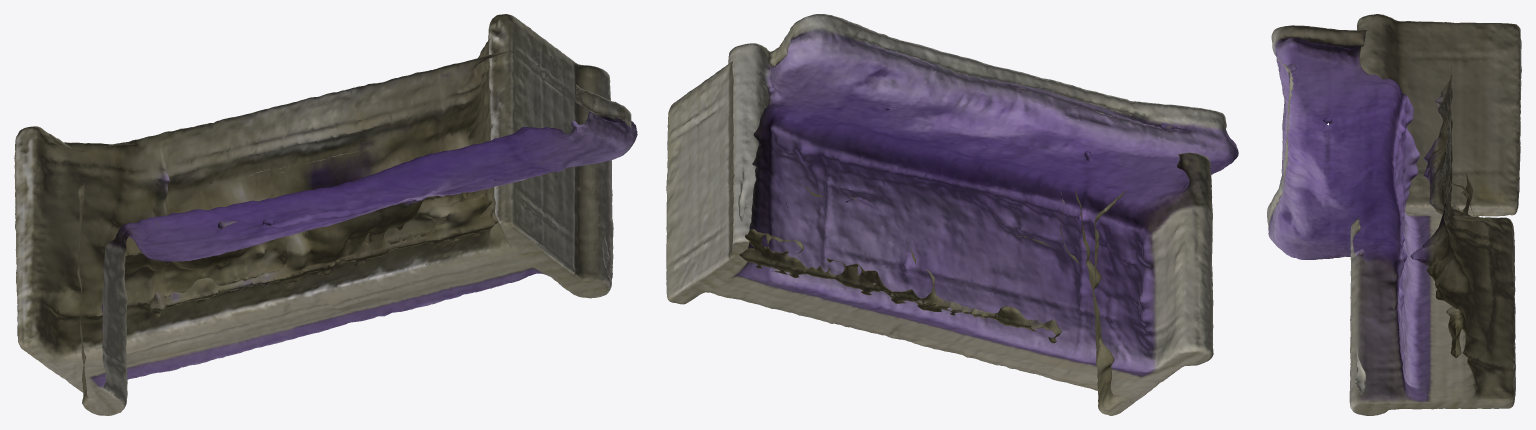
File: sofa.glb
3 renders of one model, left to right at view 1: azimuth 30°, elevation 25°; view 2: azimuth 150°, elevation 25°; view 3: azimuth 270°, elevation 25°, orthographic. The views are drawn at different scales.
Size of the model in its own units: 1 by 0.4192 by 0.4912.
